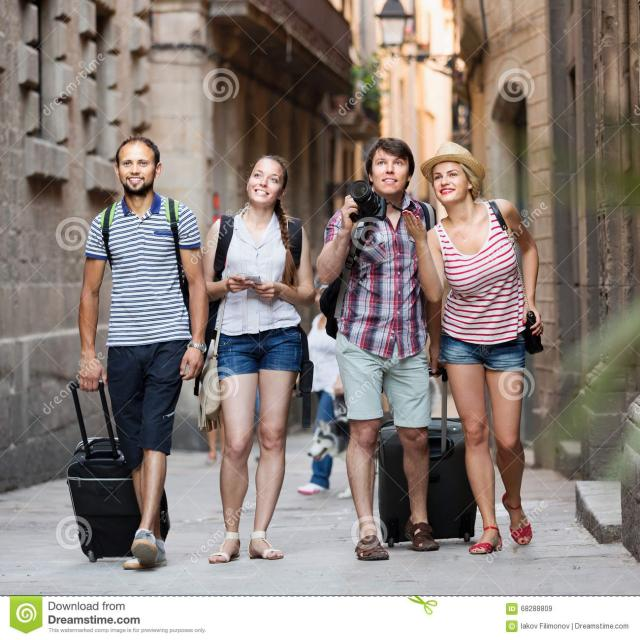body: (57, 130, 214, 574), (396, 136, 551, 554), (314, 135, 448, 564), (196, 150, 316, 566), (295, 279, 353, 499)
